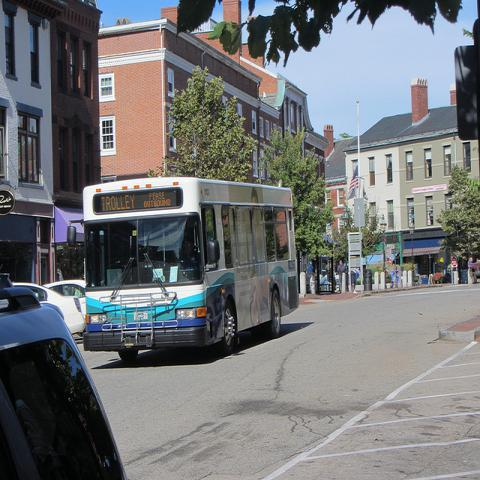bus: (83, 177, 302, 363)
car: (0, 287, 128, 479), (16, 283, 88, 337), (468, 258, 479, 284)
